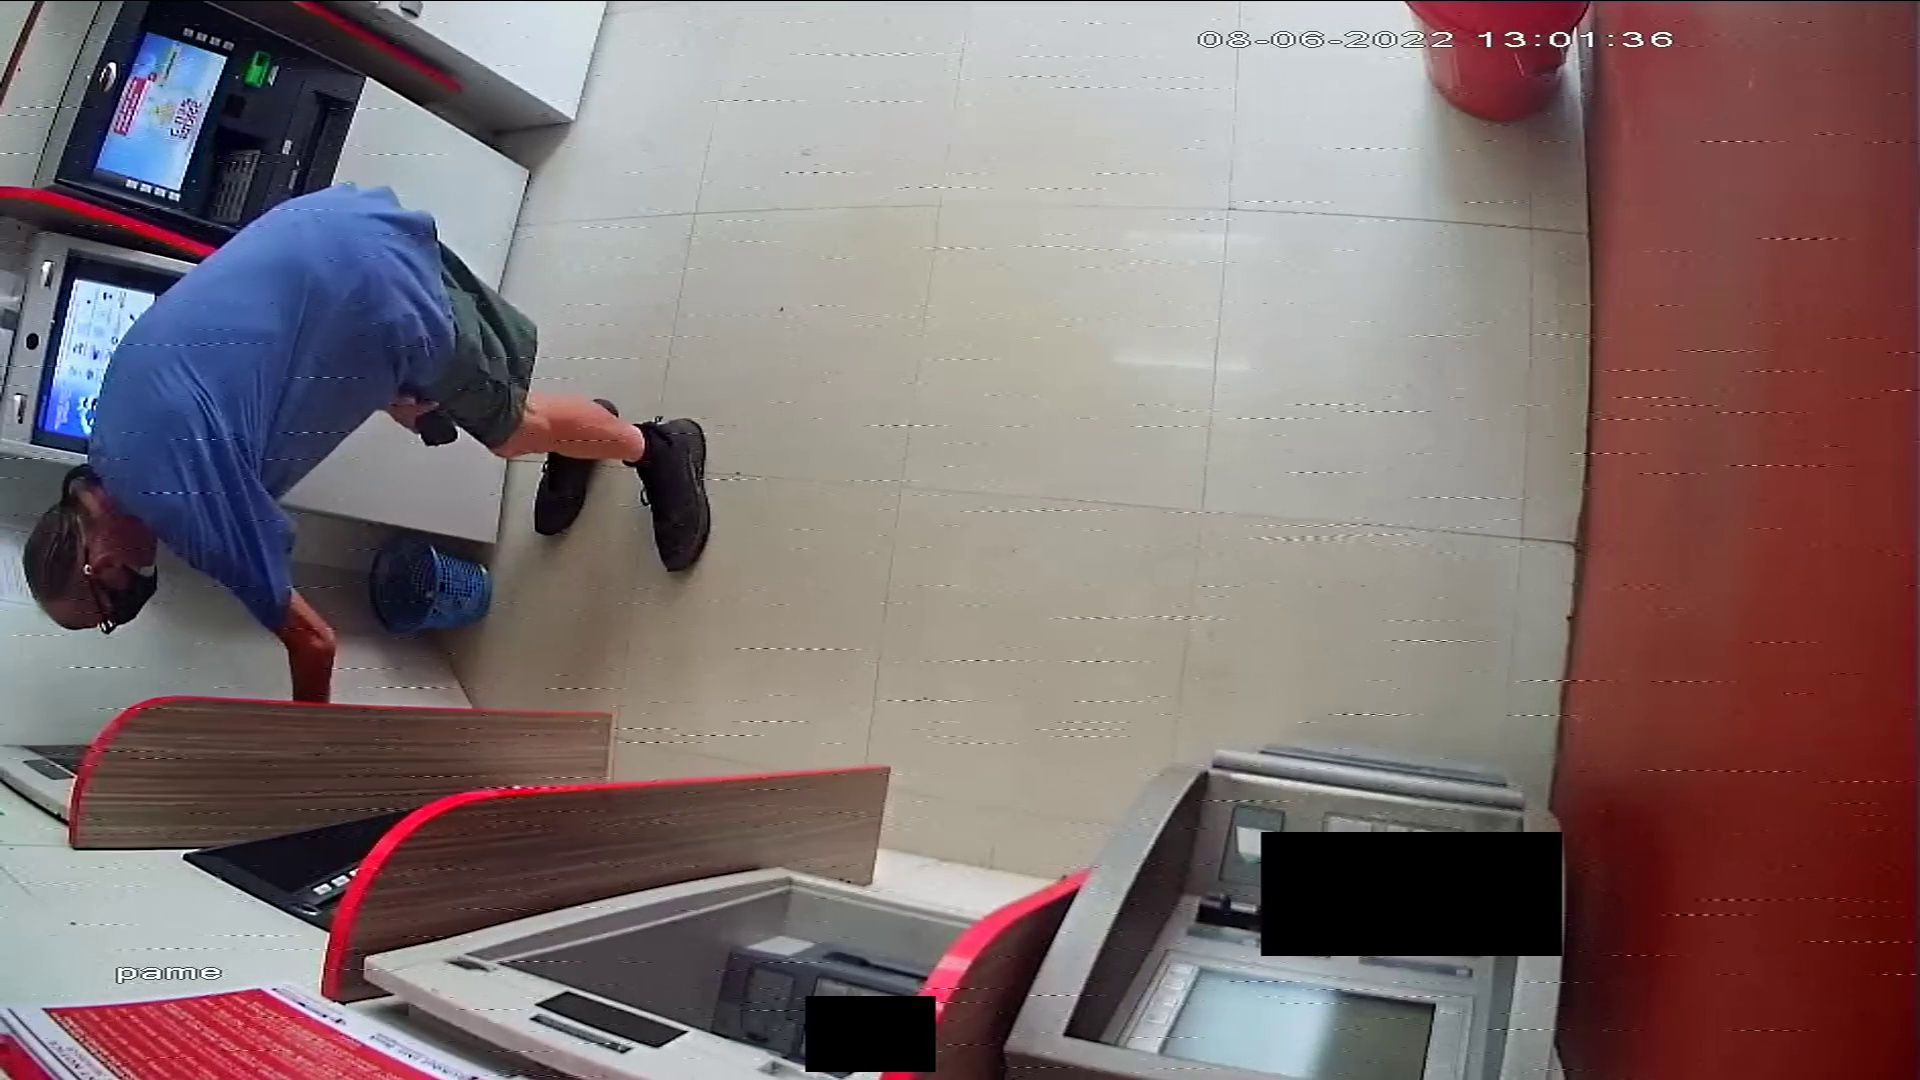person: (22, 184, 716, 703)
